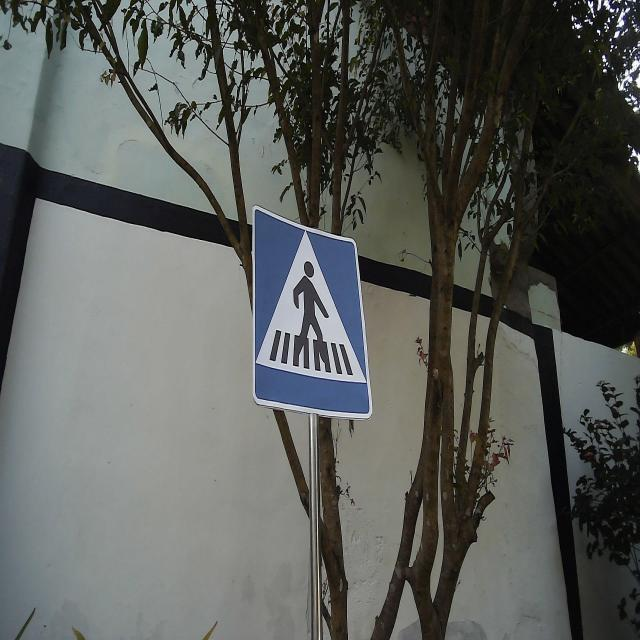crosswalk_sign: (250, 202, 375, 422)
